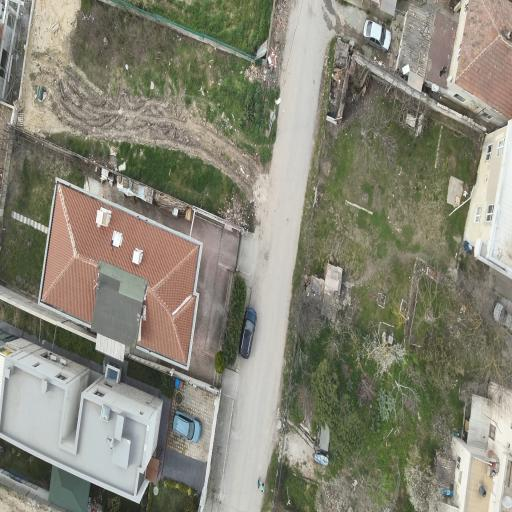car: (173, 410, 201, 441), (239, 307, 256, 358), (364, 19, 391, 50), (493, 297, 511, 328)
person: (261, 483, 264, 491), (258, 478, 260, 487)
